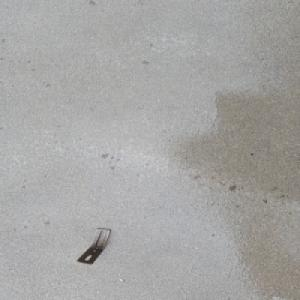MetalPart: (75, 228, 113, 265)
